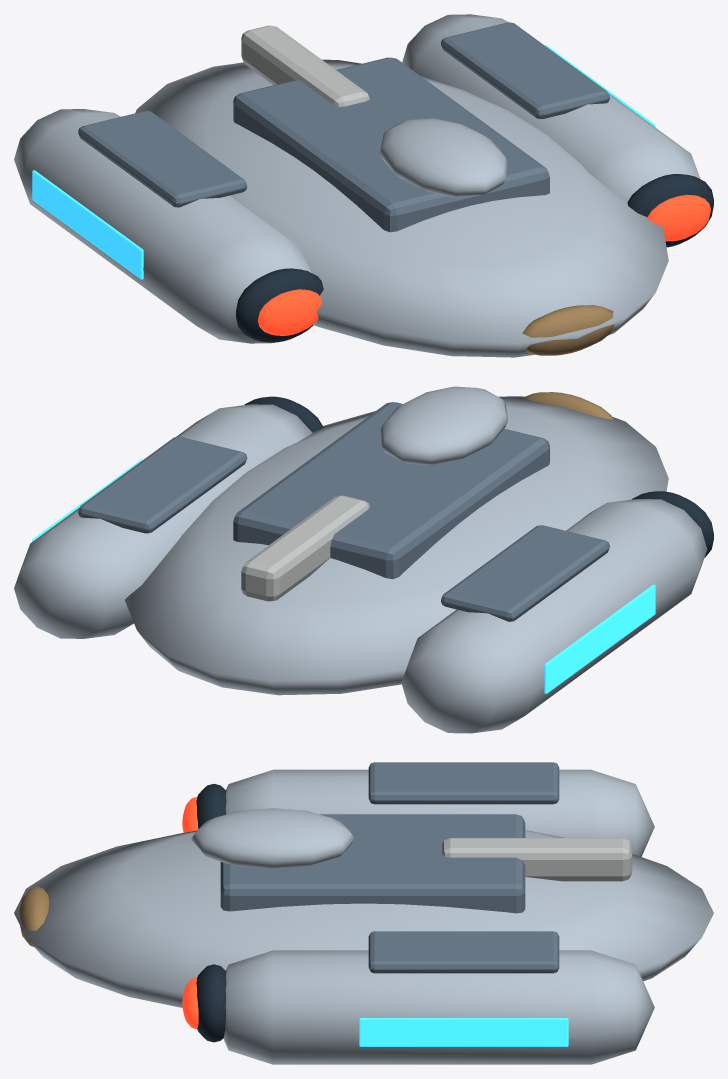
File: Escort_LOD2.glb
The picture shows the model from 3 angles, top to bottom: view 1: azimuth 30°, elevation 25°; view 2: azimuth 150°, elevation 25°; view 3: azimuth 270°, elevation 25°; orthographic projection. The views are drawn at different scales.
Parts seen in each view (by area): view 1: Escort_LOD2; view 2: Escort_LOD2; view 3: Escort_LOD2.
Boxes of the visible parts, <box> form: Escort_LOD2: <box>14,14,713,357</box>; Escort_LOD2: <box>14,386,713,733</box>; Escort_LOD2: <box>14,762,713,1064</box>.
Size of the model in its own units: 138 by 39.74 by 170.
